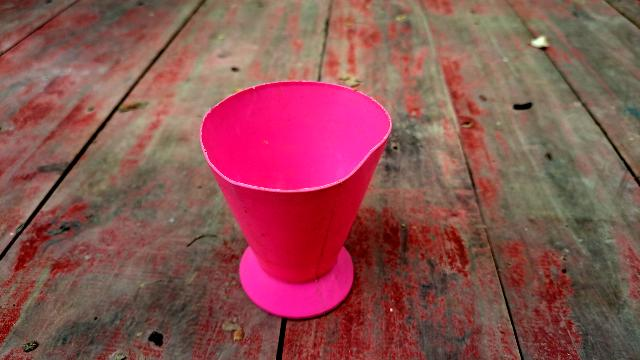hardplastic: (192, 82, 403, 323)
